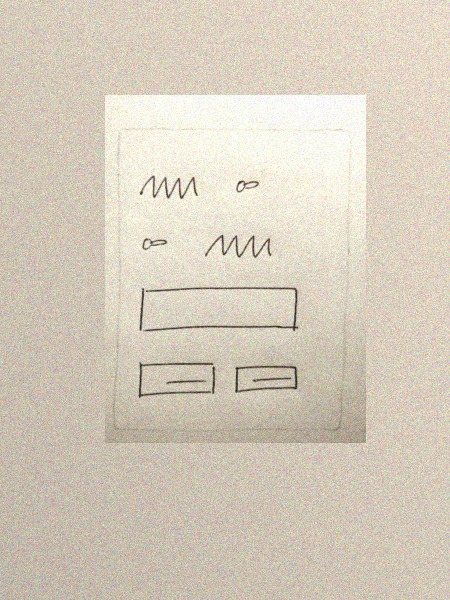button: (132, 358, 221, 400), (231, 362, 308, 397)
switch: (136, 230, 175, 257), (229, 177, 270, 197)
text: (200, 228, 285, 262), (132, 168, 205, 203)
text_input: (133, 283, 305, 336)
